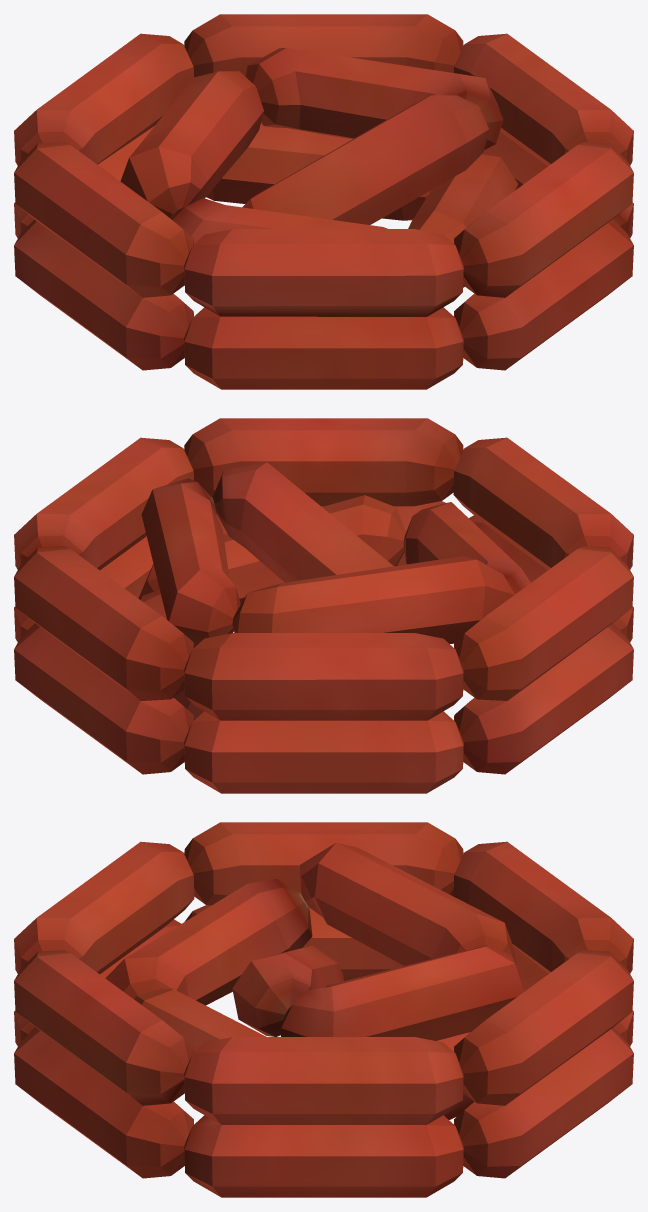
File: sausage.glb
3 views of the same model, one above another, from view 1: azimuth 30°, elevation 25°; view 2: azimuth 150°, elevation 25°; view 3: azimuth 270°, elevation 25° (orthographic).
Bounding box in the file's own units: 0.3022 × 0.099 × 0.3195.
1 material, 1 textured.
